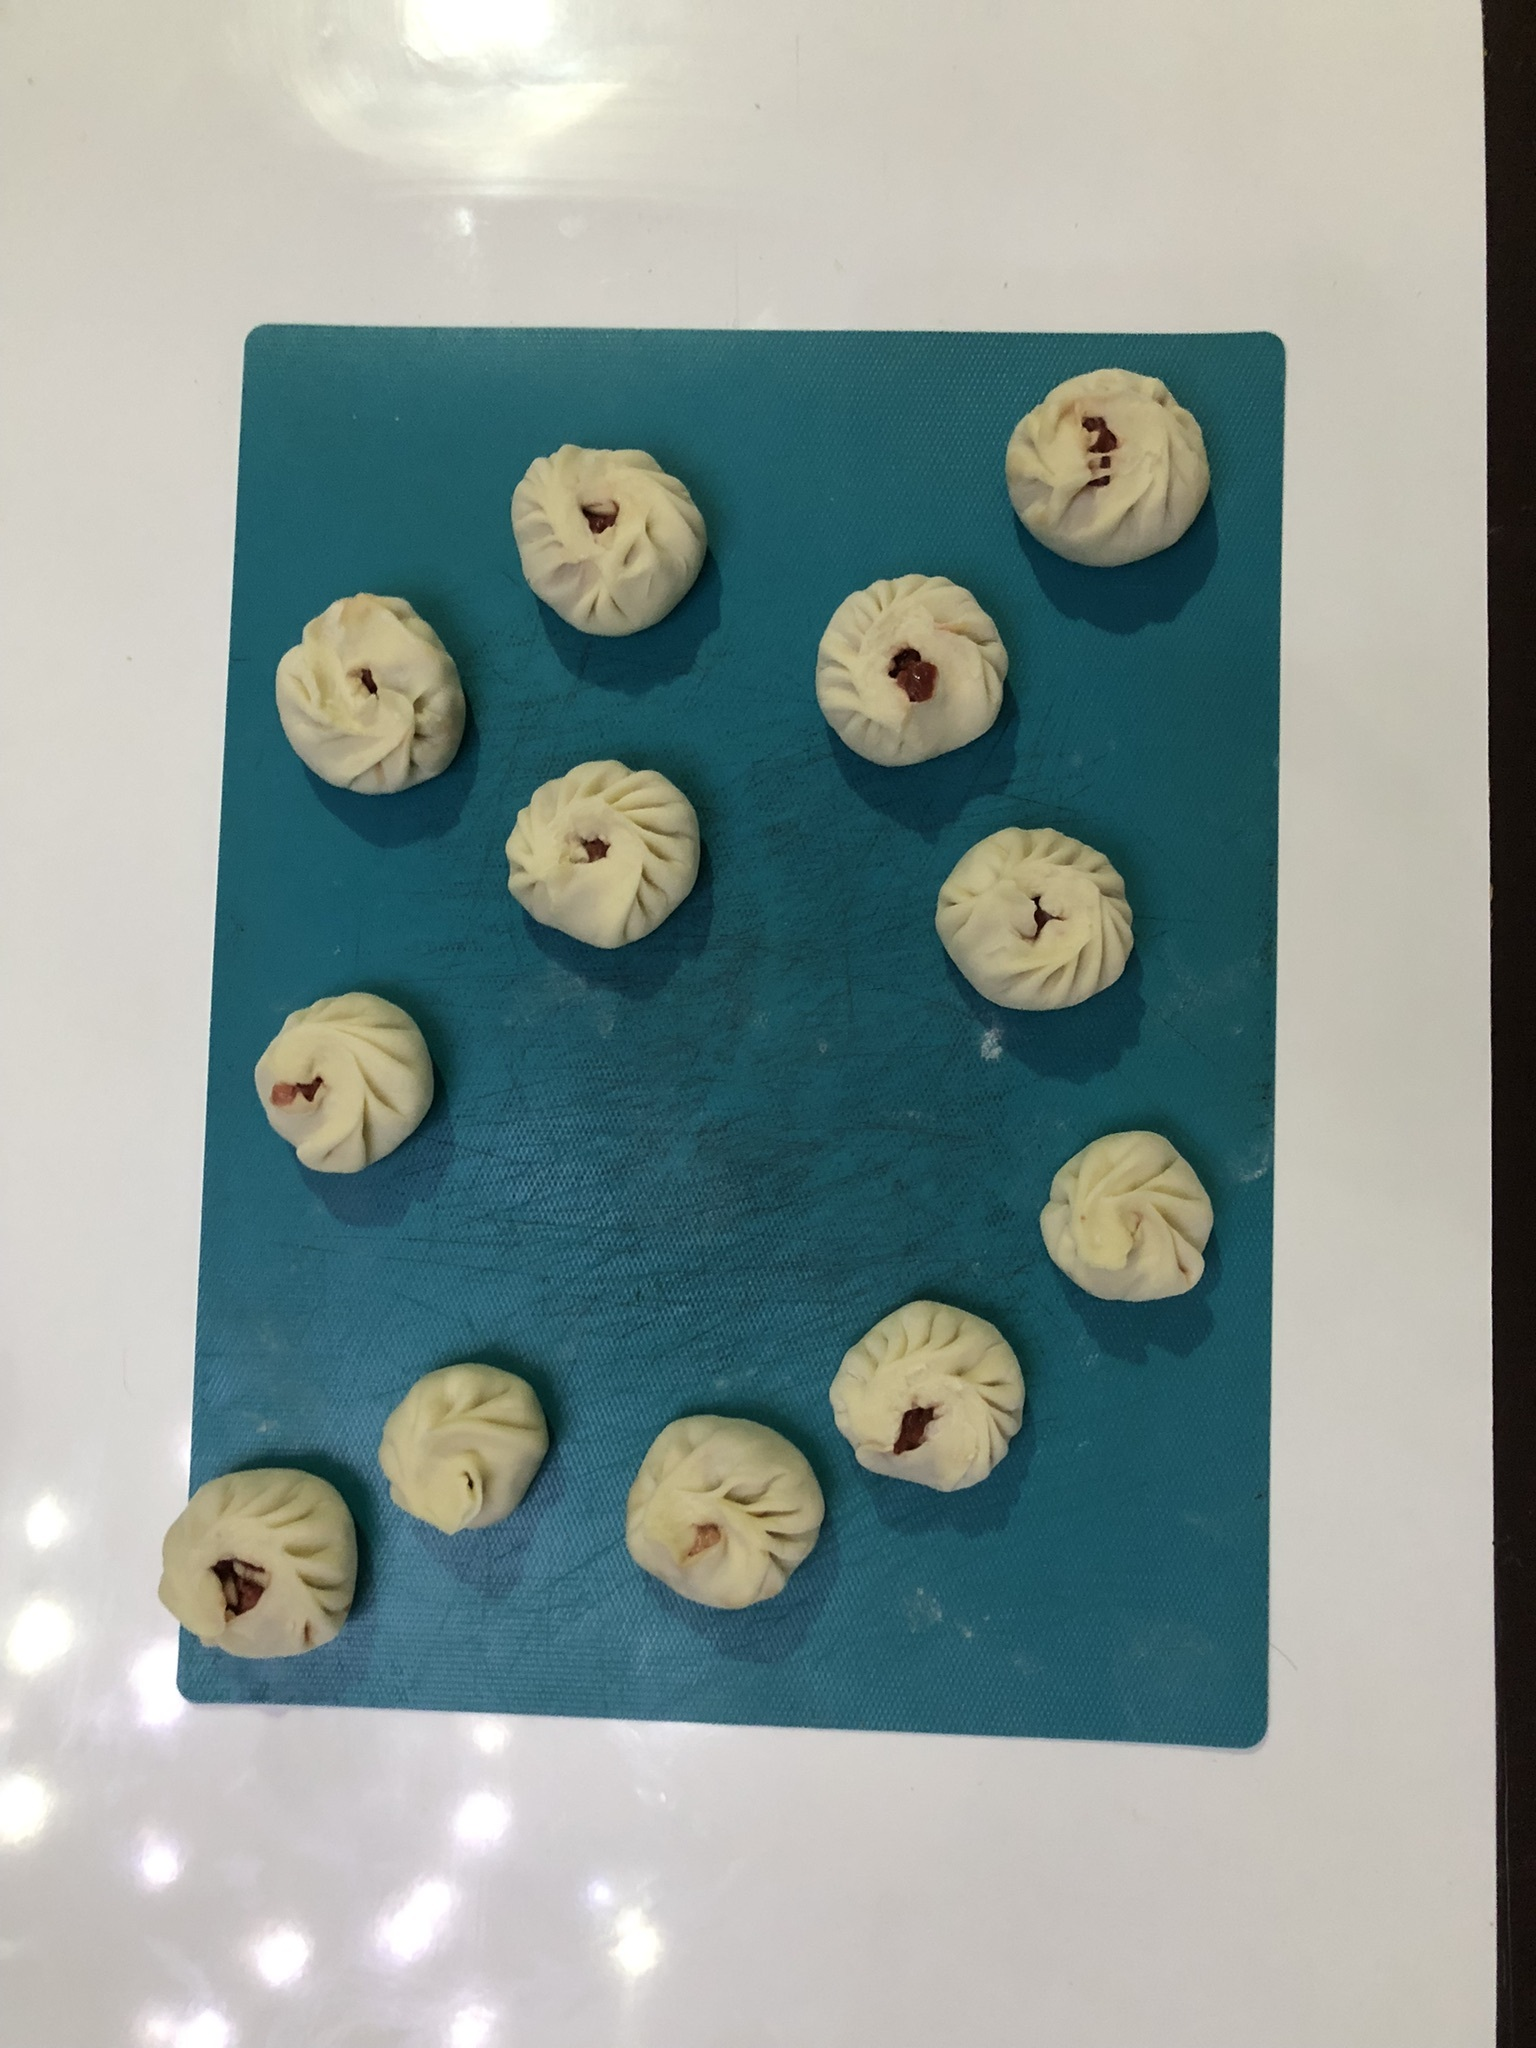buuz: (1000, 361, 1223, 577), (618, 1405, 831, 1617), (503, 435, 716, 647), (269, 585, 474, 798), (928, 818, 1142, 1021), (152, 1459, 361, 1666), (807, 569, 1013, 777), (820, 1293, 1031, 1496), (499, 753, 710, 953), (247, 985, 447, 1179), (1029, 1126, 1223, 1306), (374, 1355, 560, 1540)
